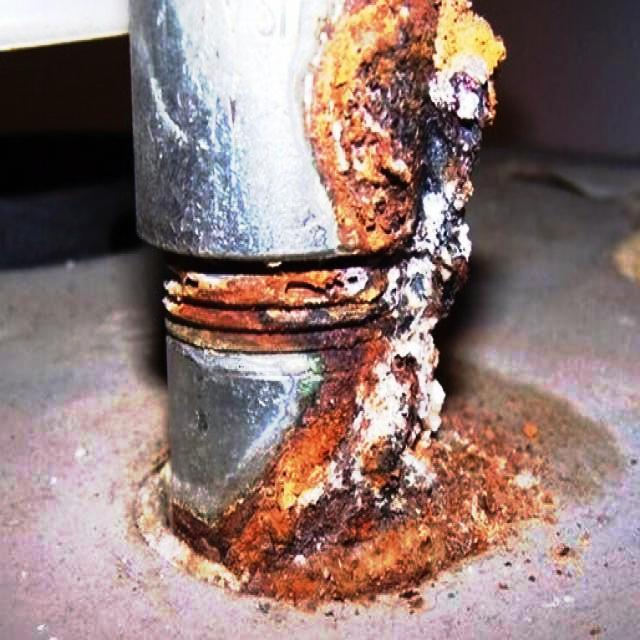Corrosion: (160, 0, 510, 610)
